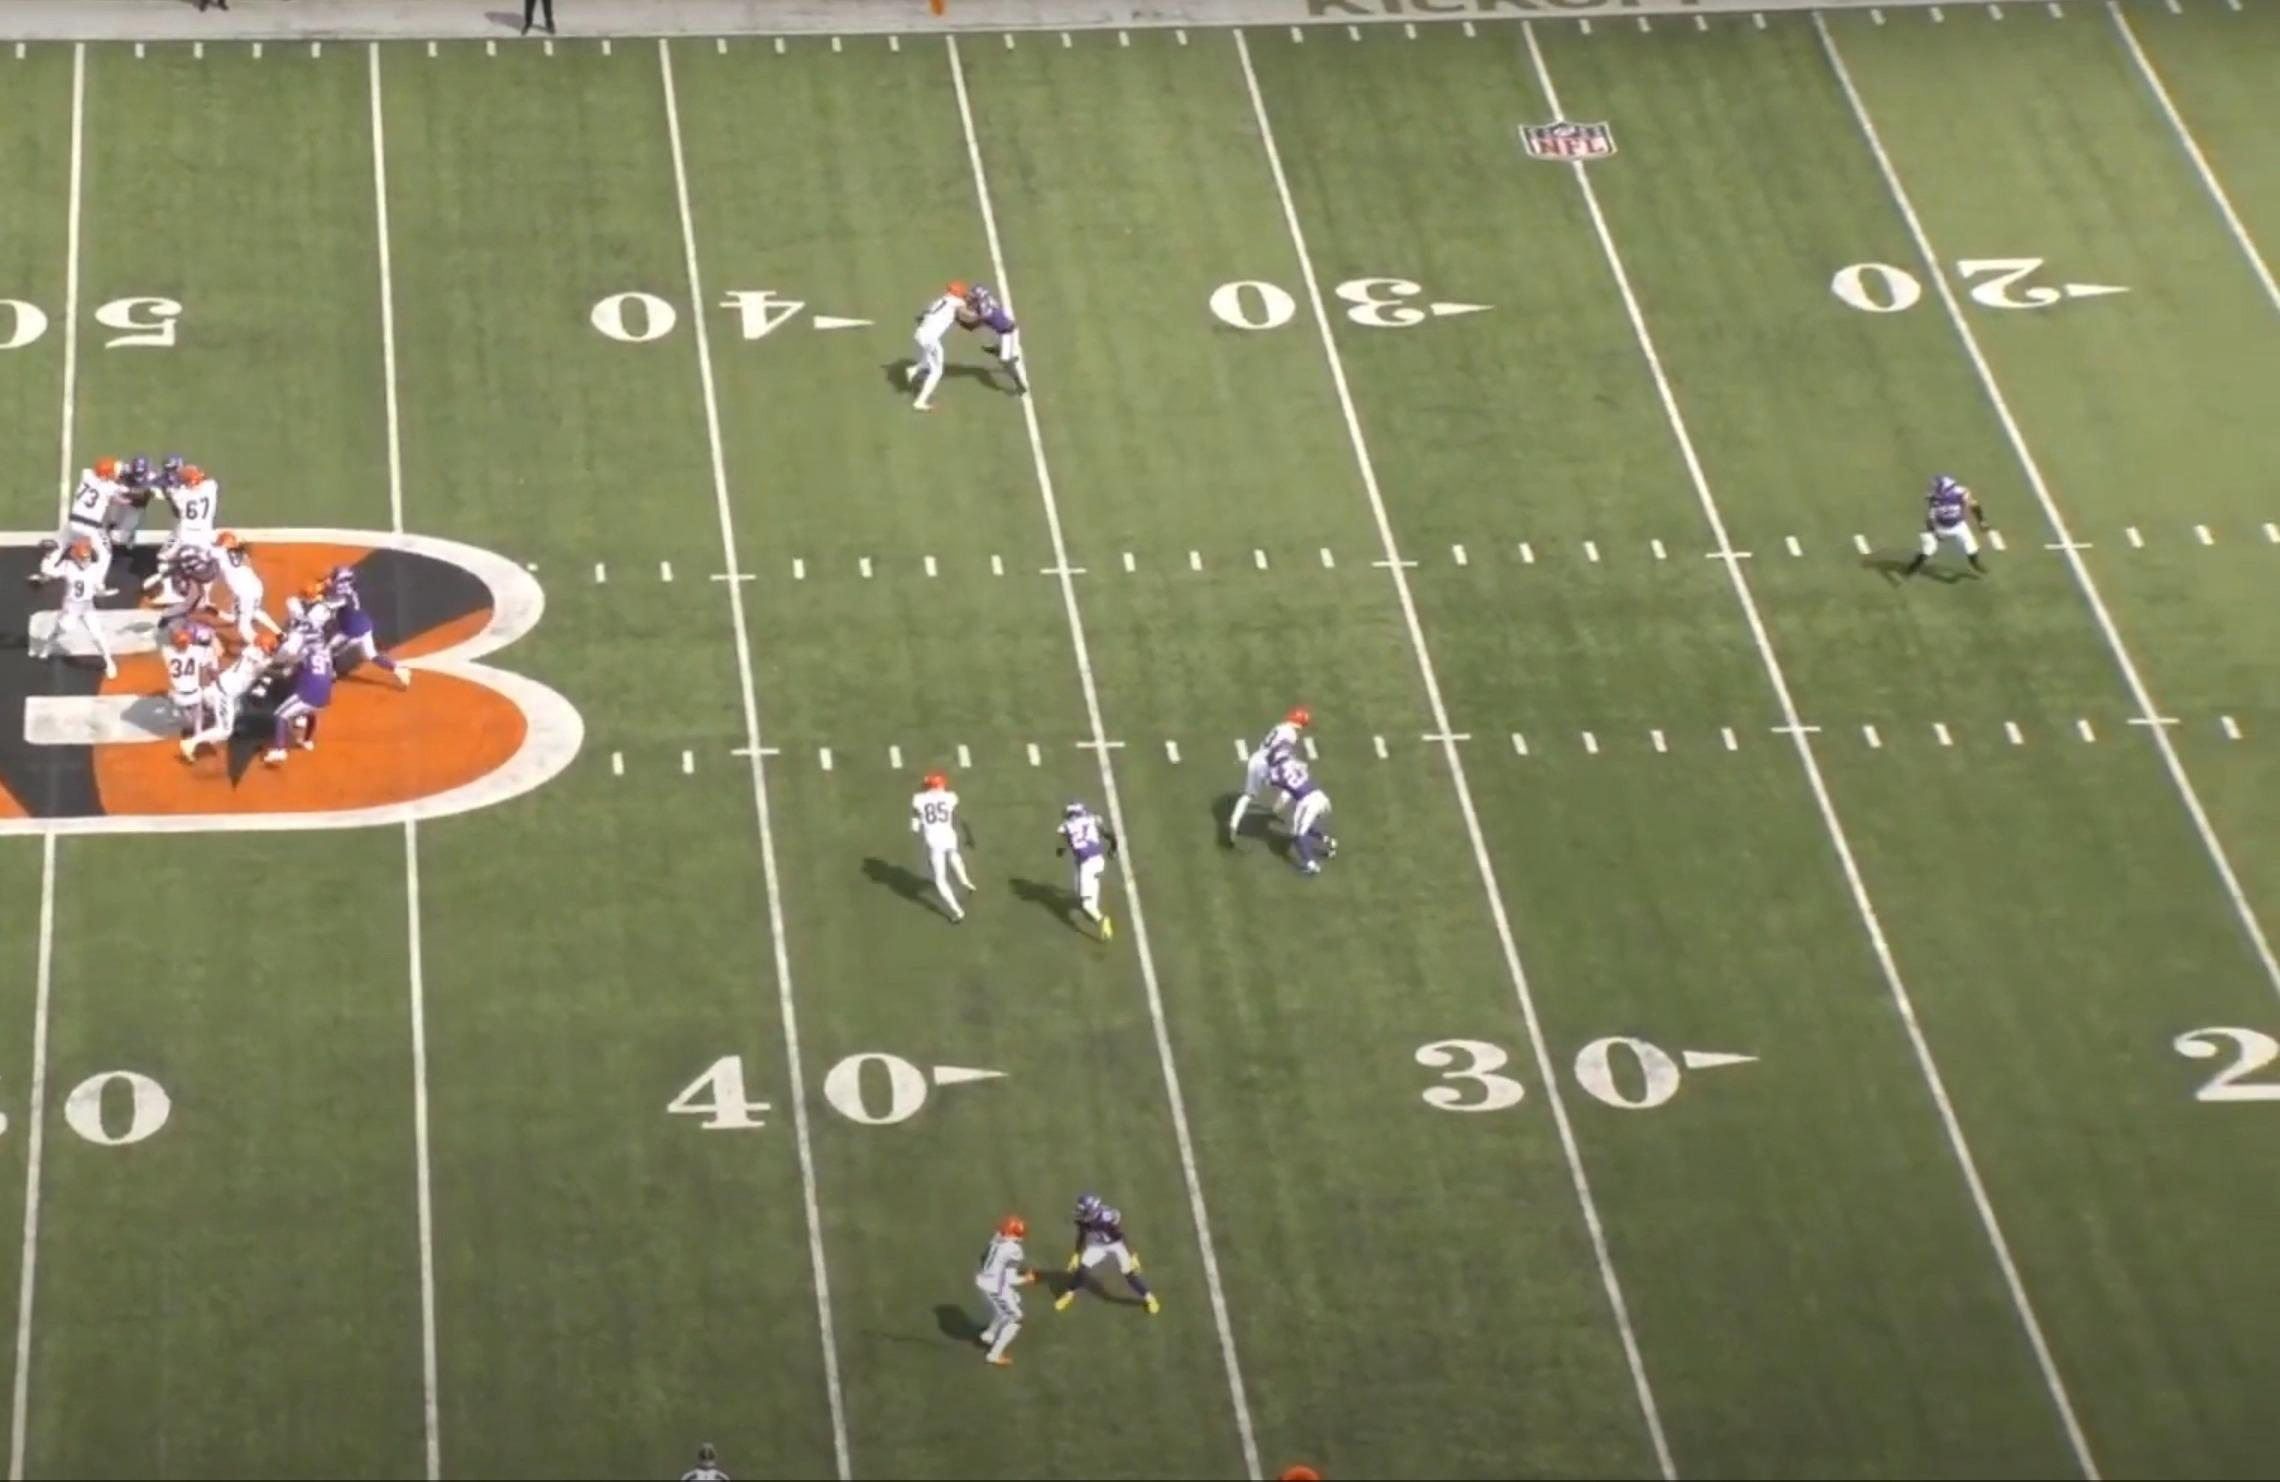defense: (1062, 1191, 1175, 1332), (316, 560, 407, 694), (259, 621, 341, 771), (1914, 465, 2004, 598), (1050, 791, 1120, 940), (1266, 739, 1339, 879), (967, 281, 1032, 407), (140, 547, 238, 630), (105, 455, 156, 557), (150, 454, 213, 520), (161, 616, 226, 680)
oline: (174, 626, 302, 766), (43, 459, 123, 601), (143, 462, 224, 601), (194, 528, 283, 648), (253, 583, 334, 699)
qb: (32, 533, 128, 689)
ref: (509, 0, 563, 42)
skill: (1228, 711, 1333, 852), (966, 1211, 1044, 1374), (901, 763, 974, 925), (892, 274, 970, 415), (156, 630, 213, 739)
